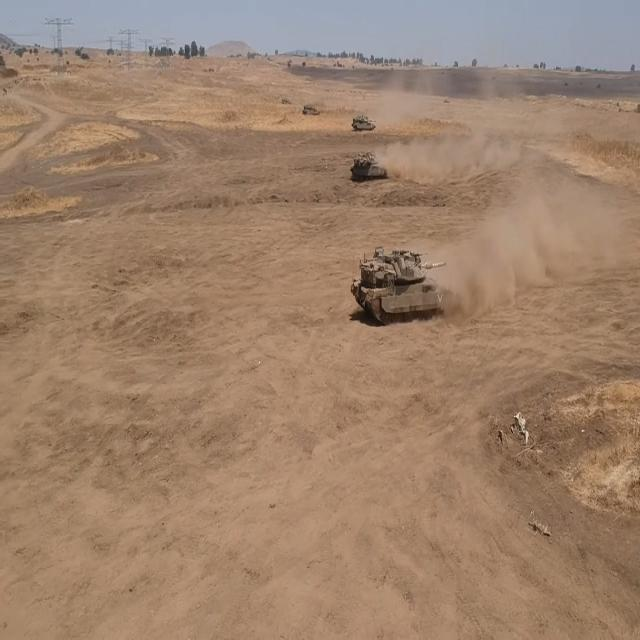tank: (352, 248, 454, 319), (350, 142, 392, 189), (352, 116, 384, 134), (306, 100, 322, 118)
